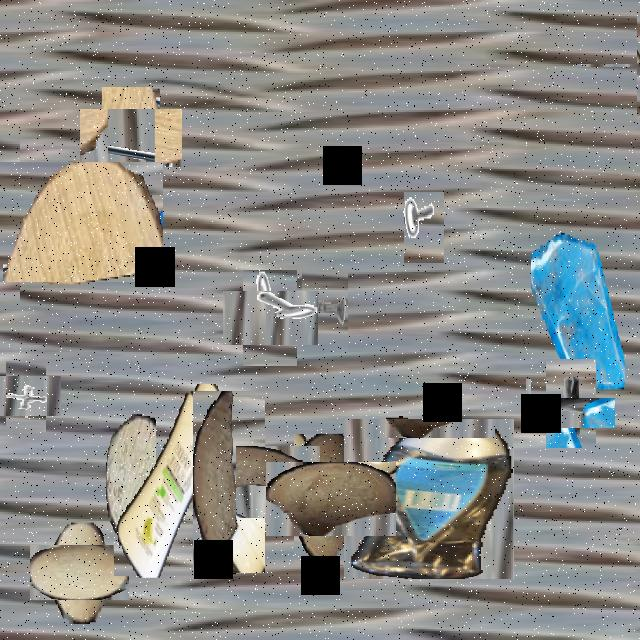glass: (531, 231, 625, 398), (0, 173, 56, 267)
metal: (91, 98, 171, 179), (232, 280, 308, 356), (536, 369, 606, 438), (302, 270, 348, 352), (0, 368, 53, 424), (404, 192, 444, 263)
plastic: (346, 417, 512, 582), (114, 384, 236, 576), (605, 33, 640, 98)
wood: (0, 162, 163, 282), (165, 419, 292, 545), (280, 448, 382, 551), (106, 414, 156, 542), (41, 534, 119, 611)
